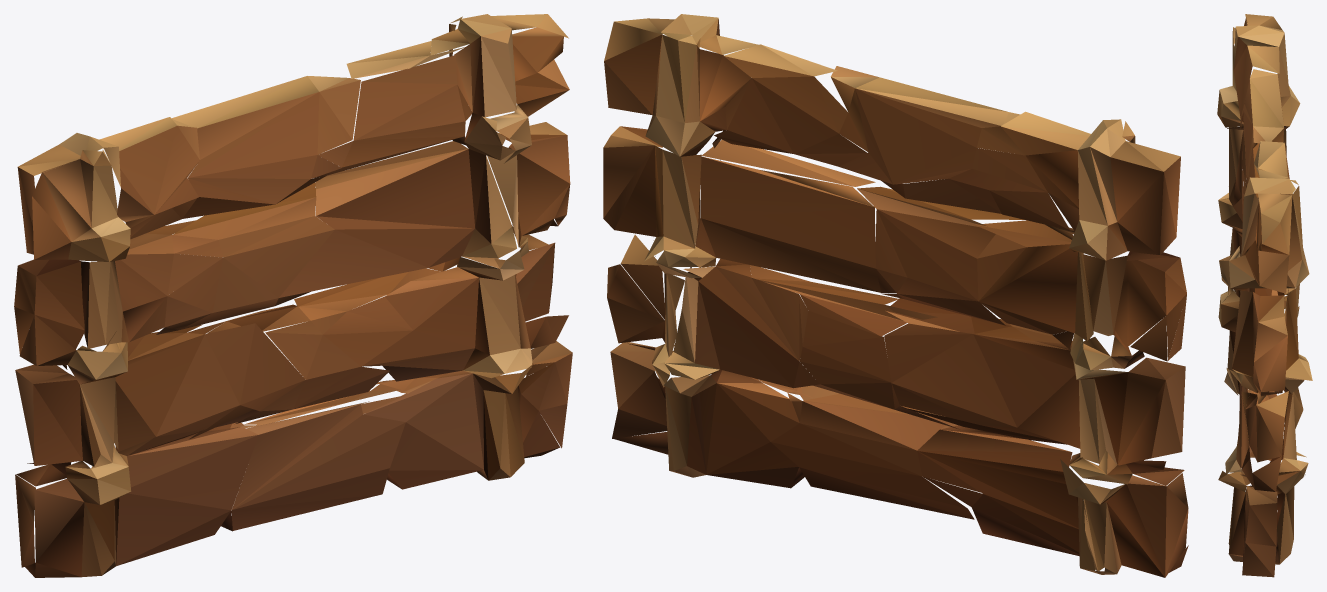
The model's file is building-rainTank-wall.glb.
The picture shows the model from 3 angles, left to right: view 1: azimuth 30°, elevation 25°; view 2: azimuth 150°, elevation 25°; view 3: azimuth 270°, elevation 25°; orthographic projection. The views are drawn at different scales.
Parts seen in each view (by area): view 1: 0_rainTank-wall; view 2: 0_rainTank-wall; view 3: 0_rainTank-wall.
Boxes of the visible parts, left/top/right/bottom form: 0_rainTank-wall: left=14, top=14, right=572, bottom=577; 0_rainTank-wall: left=603, top=14, right=1188, bottom=577; 0_rainTank-wall: left=1217, top=14, right=1312, bottom=577.
Size of the model in its own units: 1 by 0.7664 by 0.1755.
